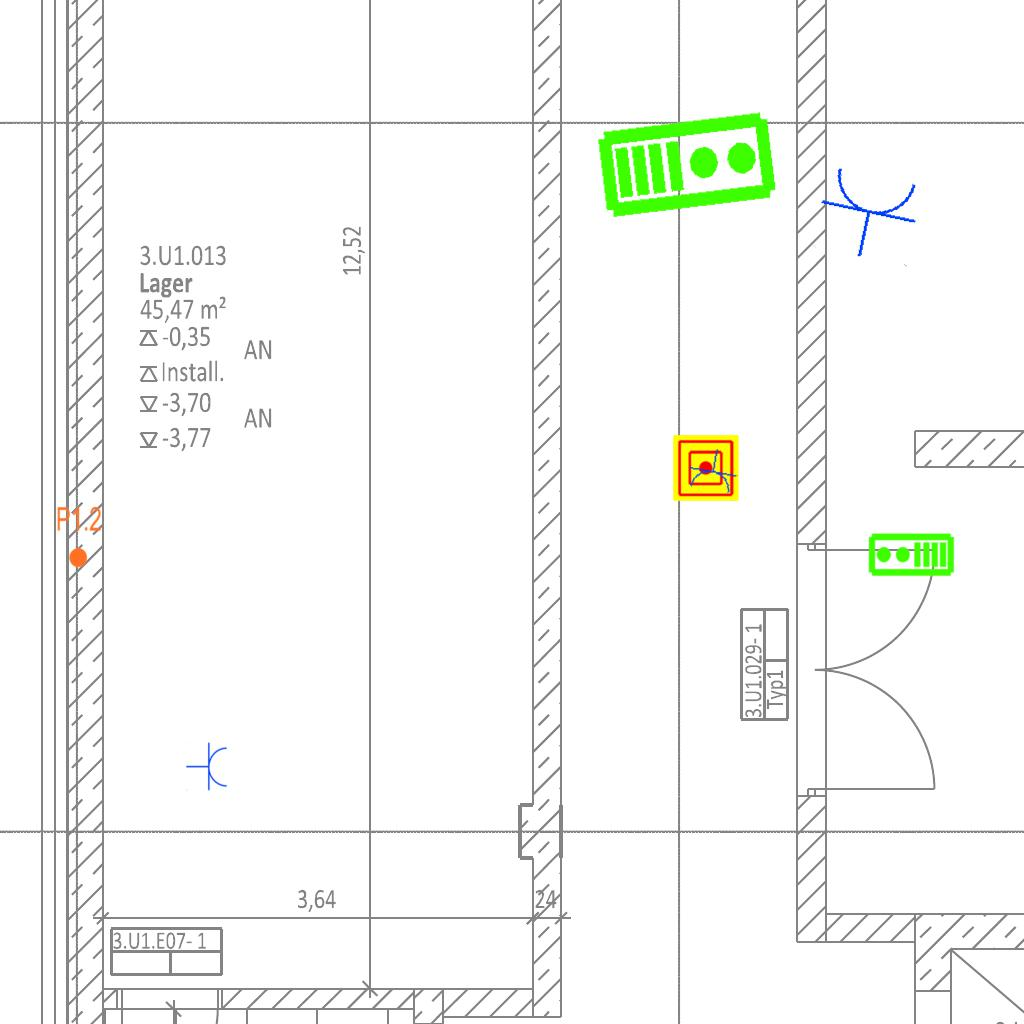Downlight_LED_Einbauleuchten_Flur: (56, 505, 102, 569)
Gegensprechanlage_mit_Video: (594, 105, 781, 221), (867, 532, 955, 579)
NAM-Nichtautomatischer_Melder: (673, 435, 739, 501)
Schukosteckdose_einfach: (811, 161, 927, 268), (684, 444, 742, 497), (186, 742, 229, 792)
